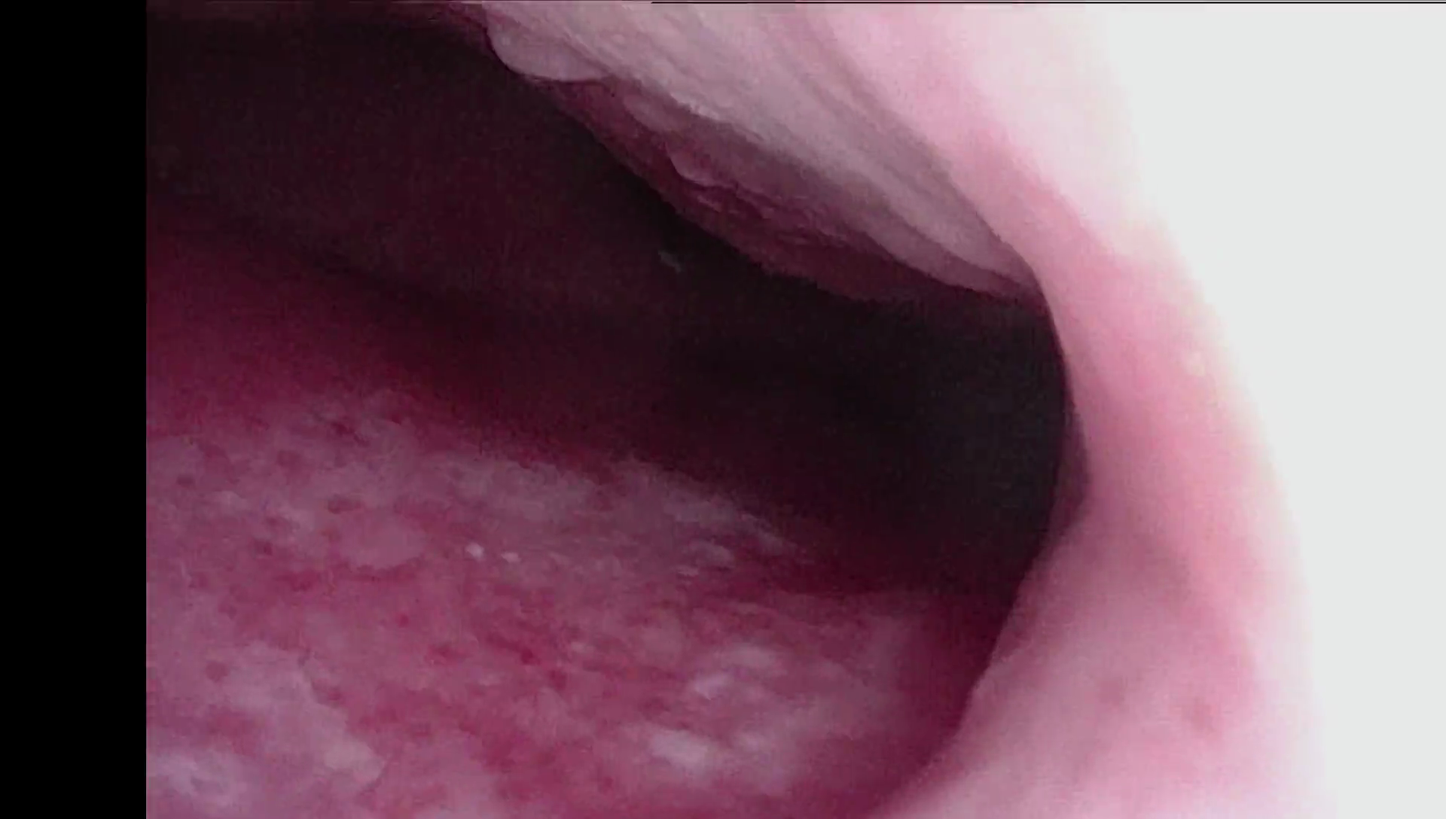close_wall: (941, 11, 1446, 819)
next: (788, 248, 1087, 608)
